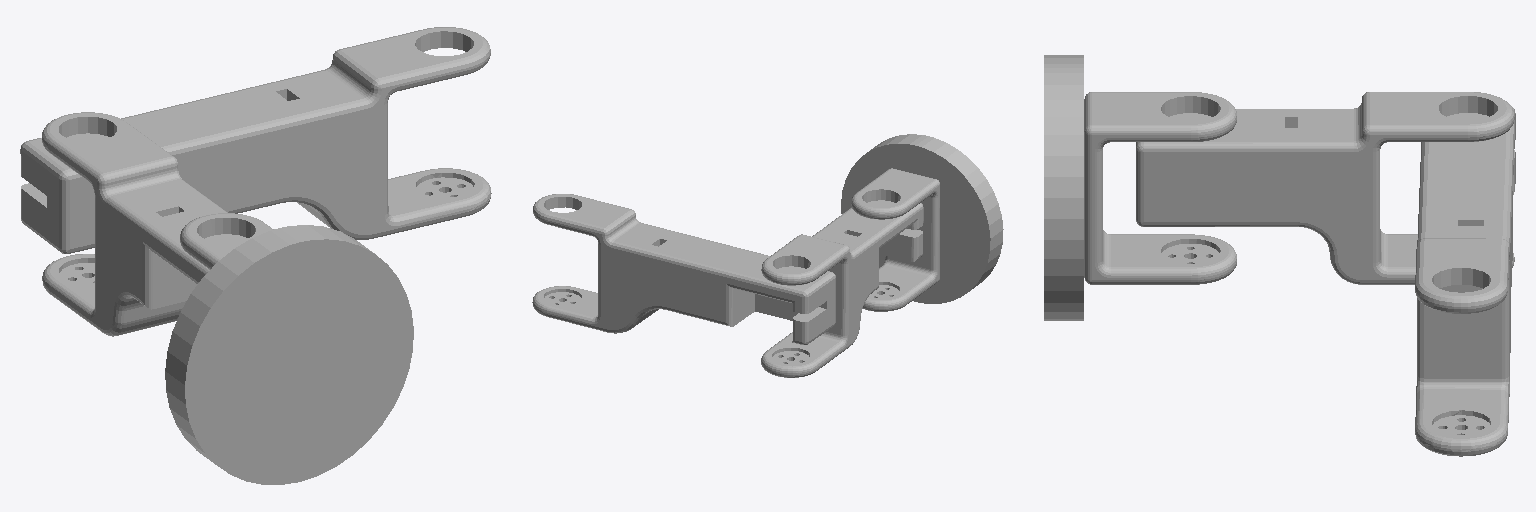
URDF robot description (urdf_with_tutorial):
<?xml version="1.0" encoding="utf-8"?>
<!-- This URDF was automatically created by SolidWorks to URDF Exporter! Originally created by [author] ([email redacted]) 
     Commit Version: 1.6.0-4-g7f85cfe  Build Version: 1.6.7995.38578
     For more information, please see http://wiki.ros.org/sw_urdf_exporter -->
<robot
  name="urdf_with_tutorial">
  <link
    name="Link_1">
    <inertial>
      <origin
        xyz="0 0.0075 7.5102E-19"
        rpy="0 0 0" />
      <mass
        value="0.16493" />
      <inertia
        ixx="0.00010618"
        ixy="-1.1952E-37"
        ixz="0"
        iyy="0.00020617"
        iyz="-5.5662E-38"
        izz="0.00010618" />
    </inertial>
    <visual>
      <origin
        xyz="0 0 0"
        rpy="0 0 0" />
      <geometry>
        <mesh
          filename="package://urdf_with_tutorial/meshes/Link_1.STL" />
      </geometry>
      <material
        name="">
        <color
          rgba="0.75294 0.75294 0.75294 1" />
      </material>
    </visual>
    <collision>
      <origin
        xyz="0 0 0"
        rpy="0 0 0" />
      <geometry>
        <mesh
          filename="package://urdf_with_tutorial/meshes/Link_1.STL" />
      </geometry>
    </collision>
  </link>
  <link
    name="Link_2">
    <inertial>
      <origin
        xyz="1.7683E-17 0.016837 -0.0015755"
        rpy="0 0 0" />
      <mass
        value="0.047388" />
      <inertia
        ixx="4.2395E-05"
        ixy="-2.0852E-21"
        ixz="2.5477E-21"
        iyy="3.4858E-05"
        iyz="1.7294E-06"
        izz="1.694E-05" />
    </inertial>
    <visual>
      <origin
        xyz="0 0 0"
        rpy="0 0 0" />
      <geometry>
        <mesh
          filename="package://urdf_with_tutorial/meshes/Link_2.STL" />
      </geometry>
      <material
        name="">
        <color
          rgba="0.75294 0.75294 0.75294 1" />
      </material>
    </visual>
    <collision>
      <origin
        xyz="0 0 0"
        rpy="0 0 0" />
      <geometry>
        <mesh
          filename="package://urdf_with_tutorial/meshes/Link_2.STL" />
      </geometry>
    </collision>
  </link>
  <joint
    name="Joint_1"
    type="continuous">
    <origin
      xyz="0 0.015 0"
      rpy="0 -0.0042717 0" />
    <parent
      link="Link_1" />
    <child
      link="Link_2" />
    <axis
      xyz="0 1 0" />
  </joint>
  <link
    name="Link_3">
    <inertial>
      <origin
        xyz="0.0010298 0.045148 0.0042493"
        rpy="0 0 0" />
      <mass
        value="0.16163" />
      <inertia
        ixx="0.00023466"
        ixy="5.7388E-06"
        ixz="-5.4065E-08"
        iyy="7.2095E-05"
        iyz="3.0225E-05"
        izz="0.00019733" />
    </inertial>
    <visual>
      <origin
        xyz="0 0 0"
        rpy="0 0 0" />
      <geometry>
        <mesh
          filename="package://urdf_with_tutorial/meshes/Link_3.STL" />
      </geometry>
      <material
        name="">
        <color
          rgba="0.75294 0.75294 0.75294 1" />
      </material>
    </visual>
    <collision>
      <origin
        xyz="0 0 0"
        rpy="0 0 0" />
      <geometry>
        <mesh
          filename="package://urdf_with_tutorial/meshes/Link_3.STL" />
      </geometry>
    </collision>
  </link>
  <joint
    name="Joint_2"
    type="continuous">
    <origin
      xyz="0 0.04 0"
      rpy="0 0 0.0020432" />
    <parent
      link="Link_2" />
    <child
      link="Link_3" />
    <axis
      xyz="0 0 1" />
  </joint>
  <link
    name="Link_4">
    <inertial>
      <origin
        xyz="0.074623 -0.00061109 0.0049493"
        rpy="0 0 0" />
      <mass
        value="0.25627" />
      <inertia
        ixx="9.6663E-05"
        ixy="-9.987E-06"
        ixz="6.0669E-05"
        iyy="0.00059082"
        iyz="-4.686E-08"
        izz="0.00054819" />
    </inertial>
    <visual>
      <origin
        xyz="0 0 0"
        rpy="0 0 0" />
      <geometry>
        <mesh
          filename="package://urdf_with_tutorial/meshes/Link_4.STL" />
      </geometry>
      <material
        name="">
        <color
          rgba="0.75294 0.75294 0.75294 1" />
      </material>
    </visual>
    <collision>
      <origin
        xyz="0 0 0"
        rpy="0 0 0" />
      <geometry>
        <mesh
          filename="package://urdf_with_tutorial/meshes/Link_4.STL" />
      </geometry>
    </collision>
  </link>
  <joint
    name="Joint_3"
    type="continuous">
    <origin
      xyz="-0.0015069 0.10426 -9.3709E-05"
      rpy="0 0 -0.018221" />
    <parent
      link="Link_3" />
    <child
      link="Link_4" />
    <axis
      xyz="0 0 1" />
  </joint>
</robot>

--- Facts derived from the render (not from the file) ---
Views: 3 orthographic renders of the robot side by side, from view 1: azimuth 30°, elevation 25°; view 2: azimuth 150°, elevation 25°; view 3: azimuth 270°, elevation 25°.
Model urdf_with_tutorial with 4 links and 3 joints (3 continuous), rooted at Link_1, posed every joint at zero.
Links seen in each view (by area): view 1: Link_1, Link_4, Link_3, Link_2; view 2: Link_4, Link_3, Link_1, Link_2; view 3: Link_3, Link_4, Link_2, Link_1.
Link boxes in pixels (left/top/right/bottom): Link_1: left=165, top=225, right=413, bottom=484; Link_4: left=20, top=27, right=491, bottom=253; Link_3: left=42, top=112, right=247, bottom=336; Link_2: left=180, top=213, right=273, bottom=269; Link_4: left=532, top=194, right=835, bottom=344; Link_3: left=761, top=200, right=923, bottom=377; Link_1: left=841, top=134, right=1003, bottom=303; Link_2: left=851, top=168, right=939, bottom=311; Link_3: left=1136, top=92, right=1514, bottom=284; Link_4: left=1415, top=106, right=1515, bottom=456; Link_2: left=1084, top=92, right=1236, bottom=284; Link_1: left=1044, top=55, right=1083, bottom=320.
Bounding box of the posed robot: 0.2216 × 0.1771 × 0.1 m (x, y, z).
4 mesh visuals loaded from 4 distinct referenced files (4 binary STL).
